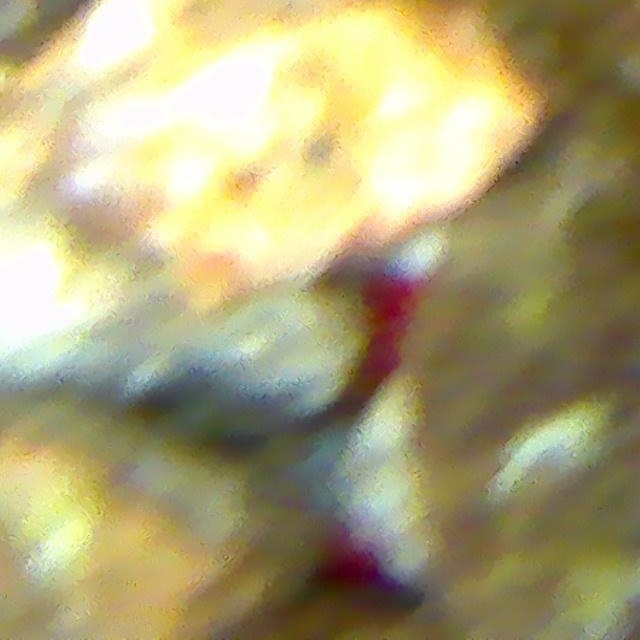SeaGrape: (510, 26, 565, 82)
